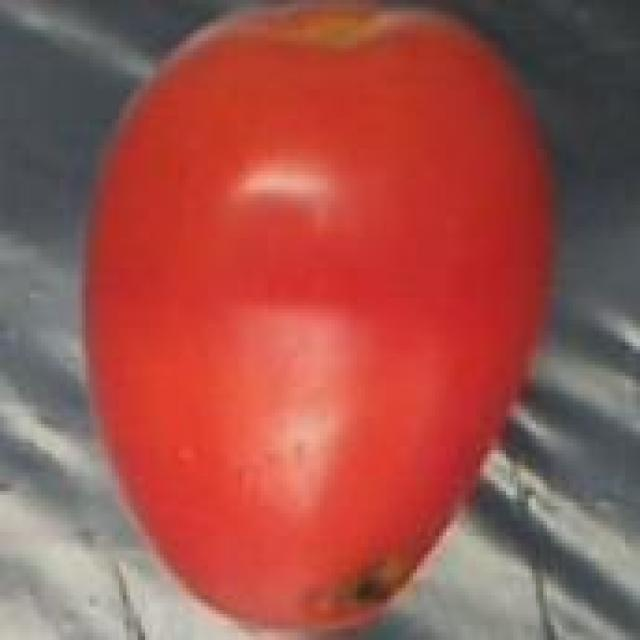overripe tomato: (70, 0, 566, 640)
